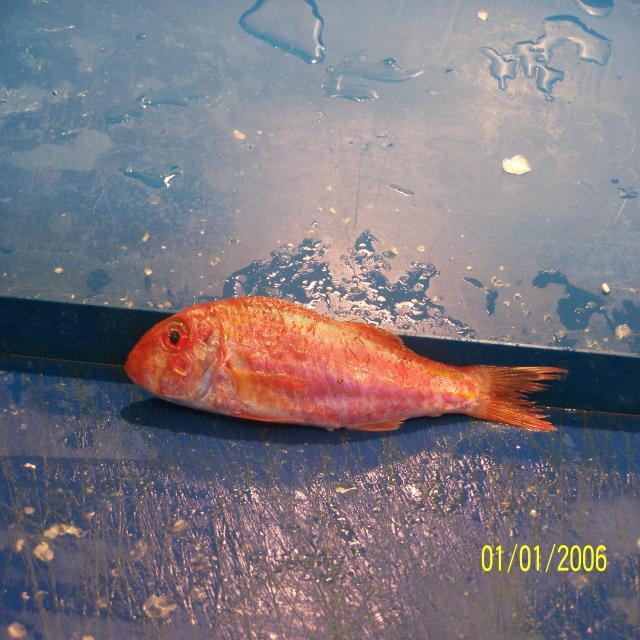Red-Mullet-kefal-: (123, 296, 567, 435)
